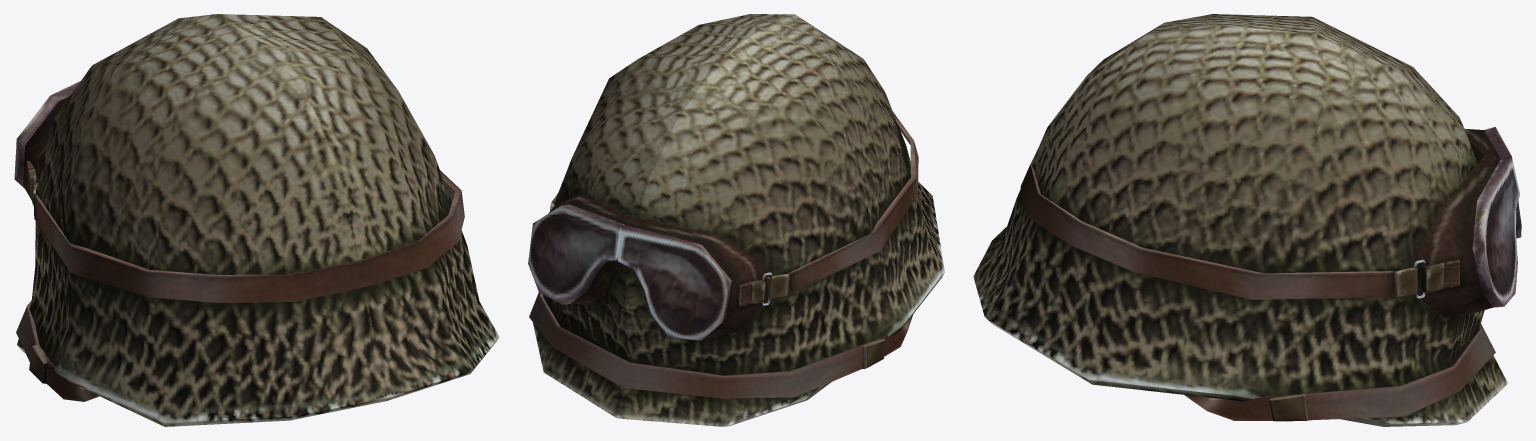
The model's file is helmet.FBX.
3 views of the same model, side by side, from view 1: azimuth 30°, elevation 25°; view 2: azimuth 150°, elevation 25°; view 3: azimuth 270°, elevation 25° (orthographic). The views are drawn at different scales.
Visible parts, largest first — view 1: helmet; view 2: helmet; view 3: helmet.
Boxes of the visible parts, bbox=[...] form: helmet: bbox=[14, 14, 499, 426]; helmet: bbox=[528, 14, 944, 426]; helmet: bbox=[973, 14, 1521, 426].
Bounding box in the file's own units: 0.2022 × 0.2514 × 0.1771.
